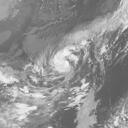cyclone: (43, 40, 87, 87)
